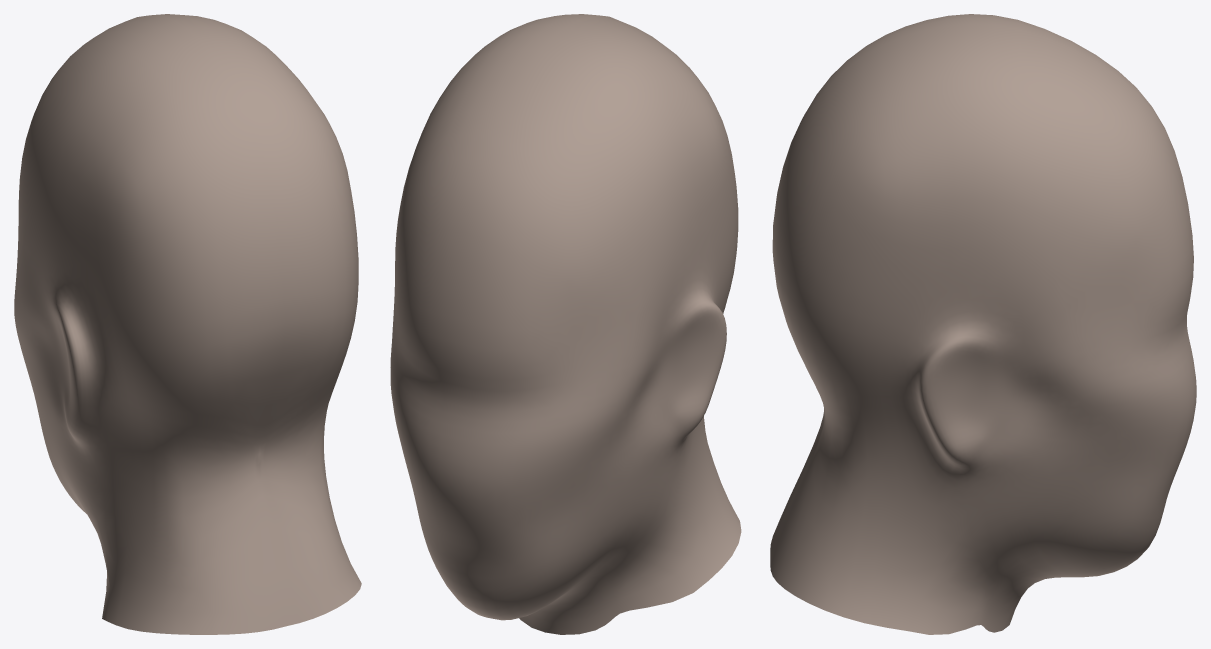
Rendered from elf_head.fbx.
The picture shows the model from 3 angles, left to right: view 1: azimuth 30°, elevation 25°; view 2: azimuth 150°, elevation 25°; view 3: azimuth 270°, elevation 25°; orthographic projection.
Visible parts, largest first — view 1: hmm:Mesh; view 2: hmm:Mesh; view 3: hmm:Mesh.
Boxes of the visible parts, bbox=[...] form: hmm:Mesh: bbox=[14, 14, 361, 634]; hmm:Mesh: bbox=[390, 14, 741, 634]; hmm:Mesh: bbox=[770, 14, 1196, 634].
Bounding box in the file's own units: 0.5248 × 1.07 × 0.6939.
